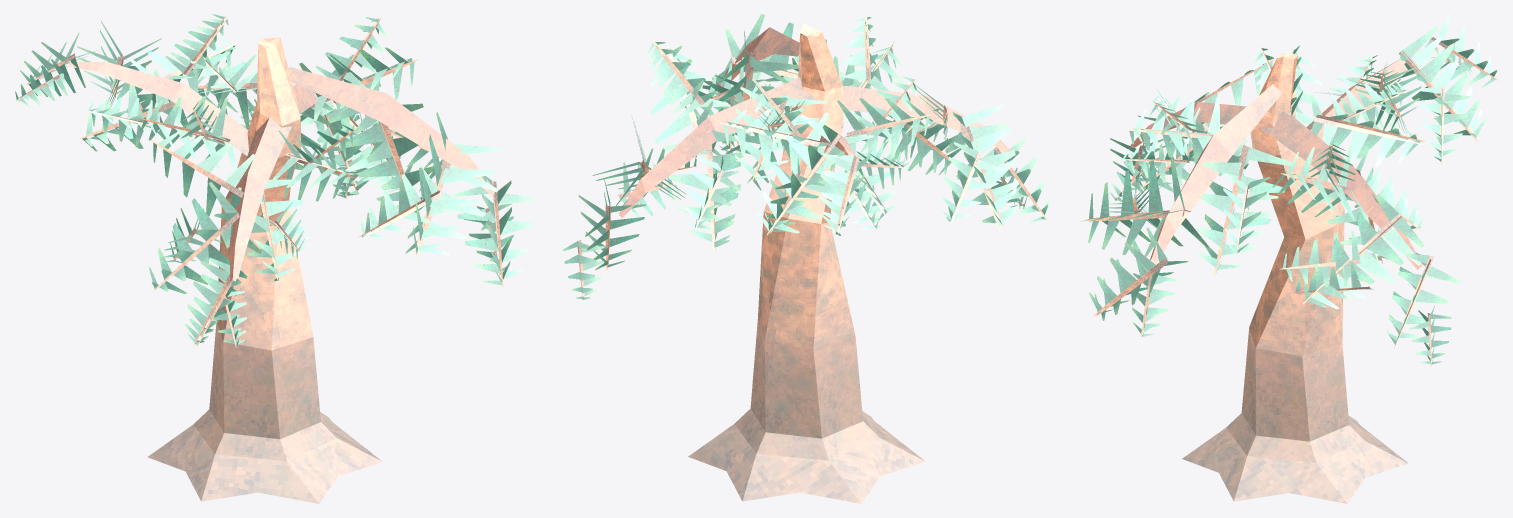
File: tree_05.glb
The picture shows the model from 3 angles, left to right: view 1: azimuth 30°, elevation 25°; view 2: azimuth 150°, elevation 25°; view 3: azimuth 270°, elevation 25°; orthographic projection. The views are drawn at different scales.
Parts seen in each view (by area): view 1: TREE_05; view 2: TREE_05; view 3: TREE_05.
Part boxes in pixels (bbox=[...]): TREE_05: bbox=[15, 14, 534, 503]; TREE_05: bbox=[563, 14, 1051, 503]; TREE_05: bbox=[1080, 14, 1498, 503].
Bounding box in the file's own units: 5.66 × 6.47 × 6.01.
